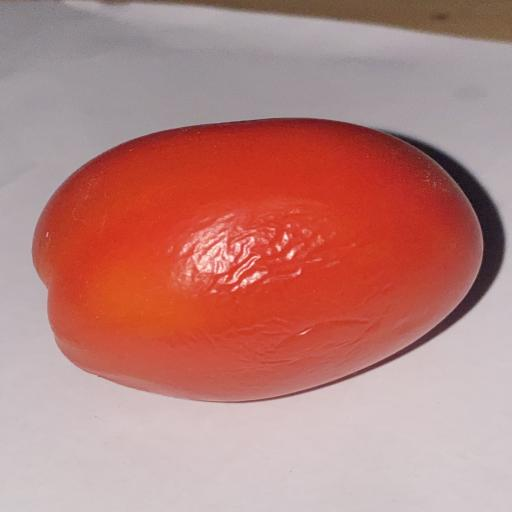spoiled: (32, 119, 483, 401)
